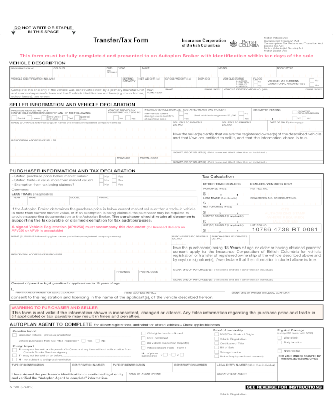checkbox: (177, 114, 185, 122), (308, 76, 315, 84), (25, 114, 33, 121), (40, 114, 47, 122), (61, 114, 69, 121), (73, 114, 81, 121), (112, 114, 120, 121), (124, 114, 132, 121), (177, 109, 185, 116), (238, 113, 245, 121), (291, 114, 298, 122), (301, 114, 308, 122), (308, 81, 315, 88), (11, 114, 18, 121), (238, 109, 245, 116), (291, 108, 298, 115), (98, 177, 104, 184), (98, 180, 104, 187), (111, 177, 117, 184), (213, 335, 219, 342), (213, 348, 219, 355), (98, 173, 104, 179), (111, 181, 117, 187), (111, 173, 117, 179), (11, 332, 17, 338), (11, 347, 17, 353), (11, 352, 17, 358), (11, 356, 17, 362), (140, 330, 146, 336), (140, 335, 146, 341), (140, 340, 146, 346), (140, 345, 146, 351), (162, 351, 168, 357), (178, 351, 184, 357), (213, 340, 219, 346), (213, 344, 219, 350), (213, 353, 219, 359), (81, 337, 86, 344), (277, 334, 282, 341), (253, 83, 258, 89), (95, 337, 100, 343), (171, 351, 176, 357), (214, 331, 219, 337), (277, 339, 282, 345), (277, 348, 282, 354), (253, 79, 257, 84)
textbox: (8, 233, 172, 252), (8, 120, 172, 138), (8, 252, 172, 270), (8, 142, 172, 155), (7, 269, 117, 283), (9, 76, 123, 89), (95, 194, 199, 207), (222, 87, 324, 100), (139, 64, 218, 79), (125, 371, 217, 383), (216, 64, 277, 79), (246, 185, 322, 197), (247, 195, 322, 207), (163, 86, 224, 99), (214, 371, 279, 383), (214, 361, 278, 373), (9, 361, 72, 373), (111, 361, 174, 373), (266, 119, 323, 132), (51, 66, 107, 79), (169, 119, 221, 132), (217, 119, 269, 132), (275, 65, 324, 77), (201, 204, 250, 216), (201, 213, 250, 225), (169, 233, 212, 246), (209, 233, 252, 246), (8, 66, 54, 78), (171, 361, 217, 373), (200, 223, 250, 234), (201, 186, 250, 197), (201, 195, 250, 206), (250, 107, 288, 121), (27, 194, 71, 206), (69, 361, 113, 373), (137, 269, 172, 283), (137, 153, 172, 166), (162, 76, 198, 88), (67, 194, 99, 206), (113, 269, 140, 282), (137, 76, 166, 88), (116, 65, 142, 78), (195, 76, 219, 89), (113, 153, 139, 165), (144, 86, 165, 100), (8, 194, 29, 207), (217, 75, 235, 89), (121, 76, 139, 88)
textline: (168, 154, 326, 162), (168, 144, 325, 152), (171, 272, 324, 279), (28, 186, 198, 192), (121, 284, 227, 293), (171, 263, 324, 269), (13, 285, 121, 292), (230, 284, 323, 292), (62, 353, 135, 358), (70, 332, 134, 337), (283, 345, 322, 350)
